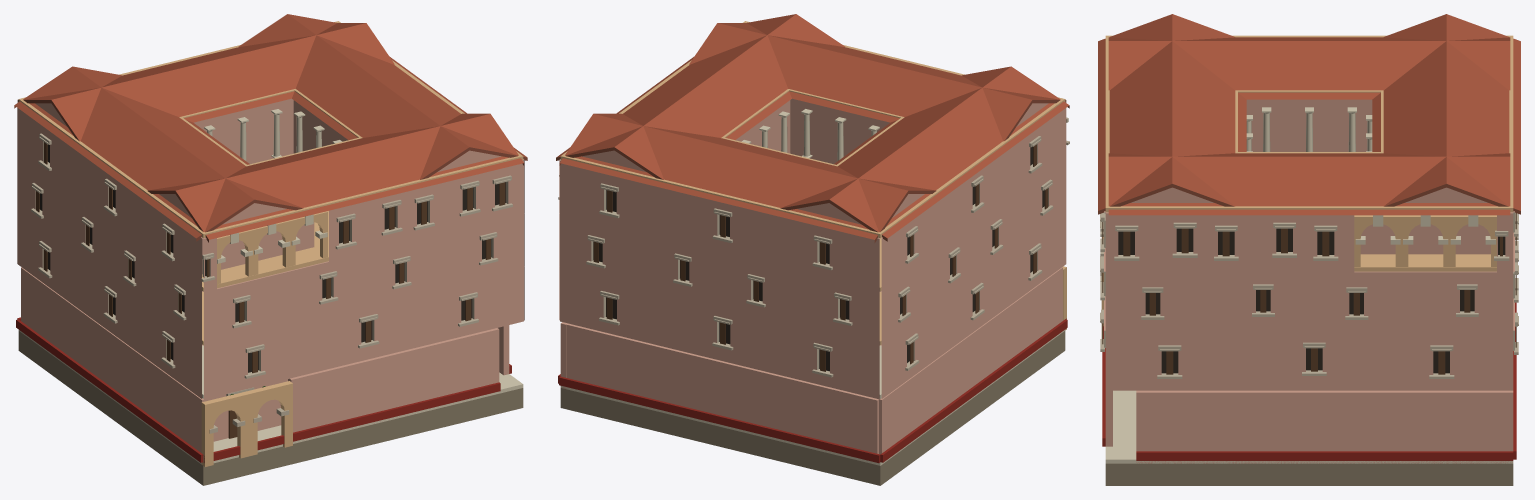
File: rome_lux_corner4.glb
The picture shows the model from 3 angles, left to right: view 1: azimuth 30°, elevation 25°; view 2: azimuth 150°, elevation 25°; view 3: azimuth 270°, elevation 25°; orthographic projection. The views are drawn at different scales.
Parts seen in each view (by area): view 1: rome_lux_corner4; view 2: rome_lux_corner4; view 3: rome_lux_corner4.
Part boxes in pixels (x1,y1,x2,y2): rome_lux_corner4: (14, 14, 527, 485); rome_lux_corner4: (556, 14, 1069, 485); rome_lux_corner4: (1098, 14, 1520, 485).
Size of the model in its own units: 20.73 by 16.28 by 20.73.
